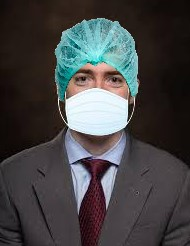with_mask_and_cap: (54, 18, 138, 134)
